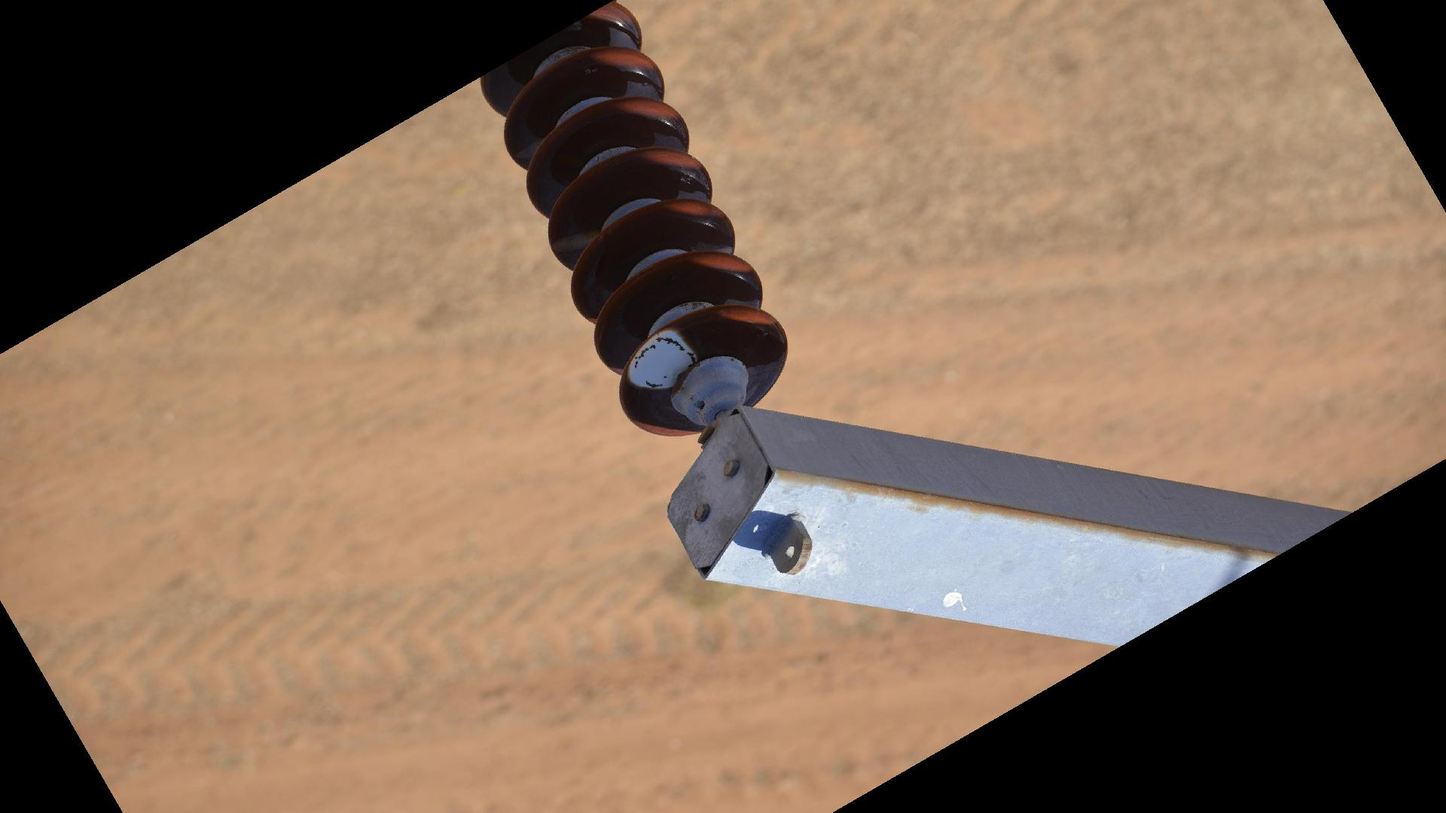insulator: (477, 1, 792, 440)
insulator_flashover: (626, 324, 698, 393), (550, 227, 601, 257)
